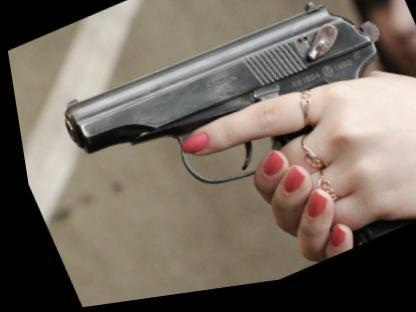pistol: (36, 0, 415, 308)
